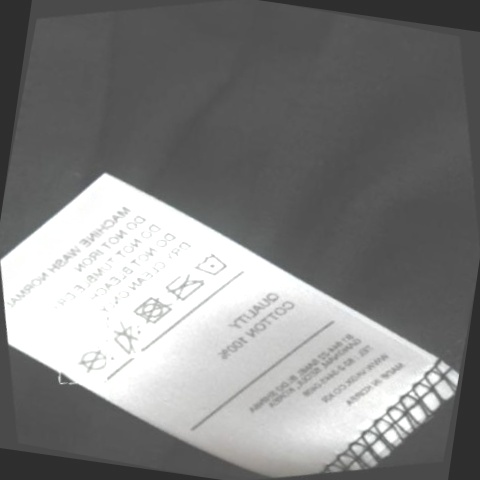30C: (194, 248, 227, 279)
DN_bleach: (102, 319, 141, 357)
DN_dry_clean: (75, 346, 111, 378)
DN_iron: (161, 270, 202, 305)
DN_tumble_dry: (129, 291, 173, 327)
